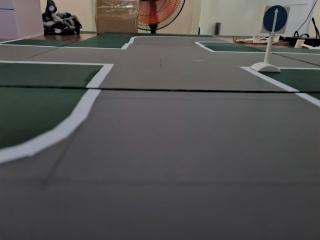straight: (261, 4, 291, 36)
